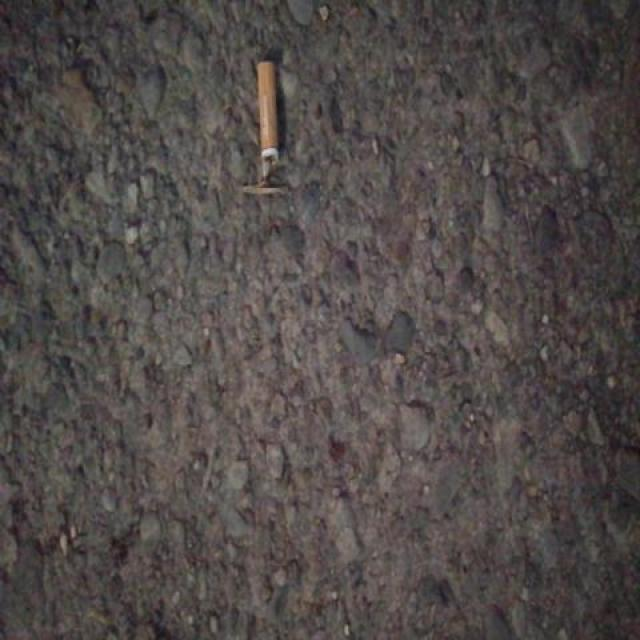non-organic waste: (253, 56, 283, 187)
